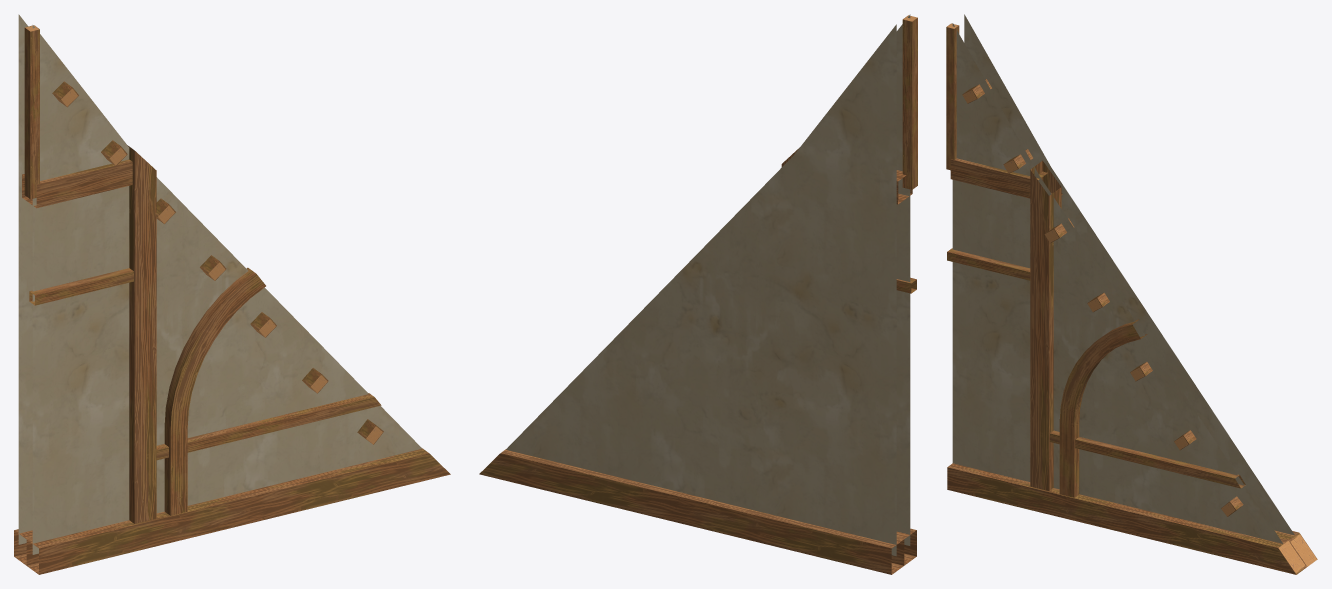
The model's file is Roof_Front_Brick8_Half_R.gltf.
3 views of the same model, side by side, from view 1: azimuth 30°, elevation 25°; view 2: azimuth 150°, elevation 25°; view 3: azimuth 330°, elevation 25° (orthographic). The views are drawn at different scales.
Visible parts, largest first — view 1: Roof_Front_Brick8_Half_R; view 2: Roof_Front_Brick8_Half_R; view 3: Roof_Front_Brick8_Half_R.
Boxes of the visible parts, x1,y1,x2,y2 form: Roof_Front_Brick8_Half_R: (14,14,450,574); Roof_Front_Brick8_Half_R: (479,14,917,574); Roof_Front_Brick8_Half_R: (946,14,1317,574).
Bounding box in the file's own units: 4.35 × 5.45 × 0.4896.
Materials: 2 (2 with a texture image).
